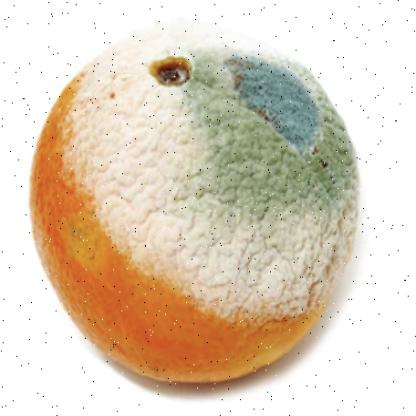rotten: (31, 38, 358, 388)
